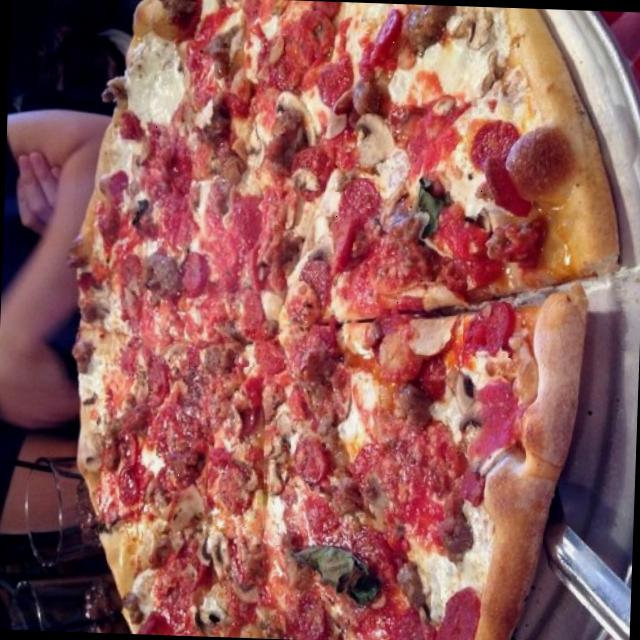basil: (286, 535, 394, 619), (390, 172, 461, 262)
pizza: (72, 0, 617, 640)
tomato: (246, 0, 414, 123), (100, 362, 212, 499), (320, 178, 427, 316), (190, 172, 288, 318), (206, 364, 270, 526), (138, 119, 205, 248), (388, 419, 456, 542), (290, 493, 404, 565), (102, 252, 172, 368), (279, 327, 346, 442), (466, 107, 536, 215), (284, 110, 364, 200), (431, 208, 506, 301), (253, 570, 333, 640), (148, 548, 207, 636), (394, 100, 466, 170), (473, 380, 522, 476), (356, 581, 433, 640), (380, 330, 450, 392), (288, 418, 334, 506), (178, 14, 220, 108), (462, 298, 520, 357)
